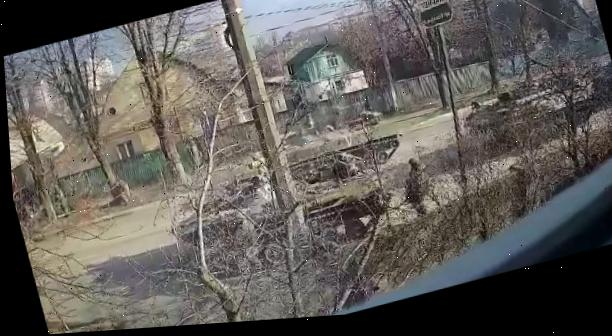person: (400, 151, 438, 222)
tank: (170, 146, 401, 291), (452, 61, 604, 166), (244, 113, 410, 202), (583, 52, 612, 109)
